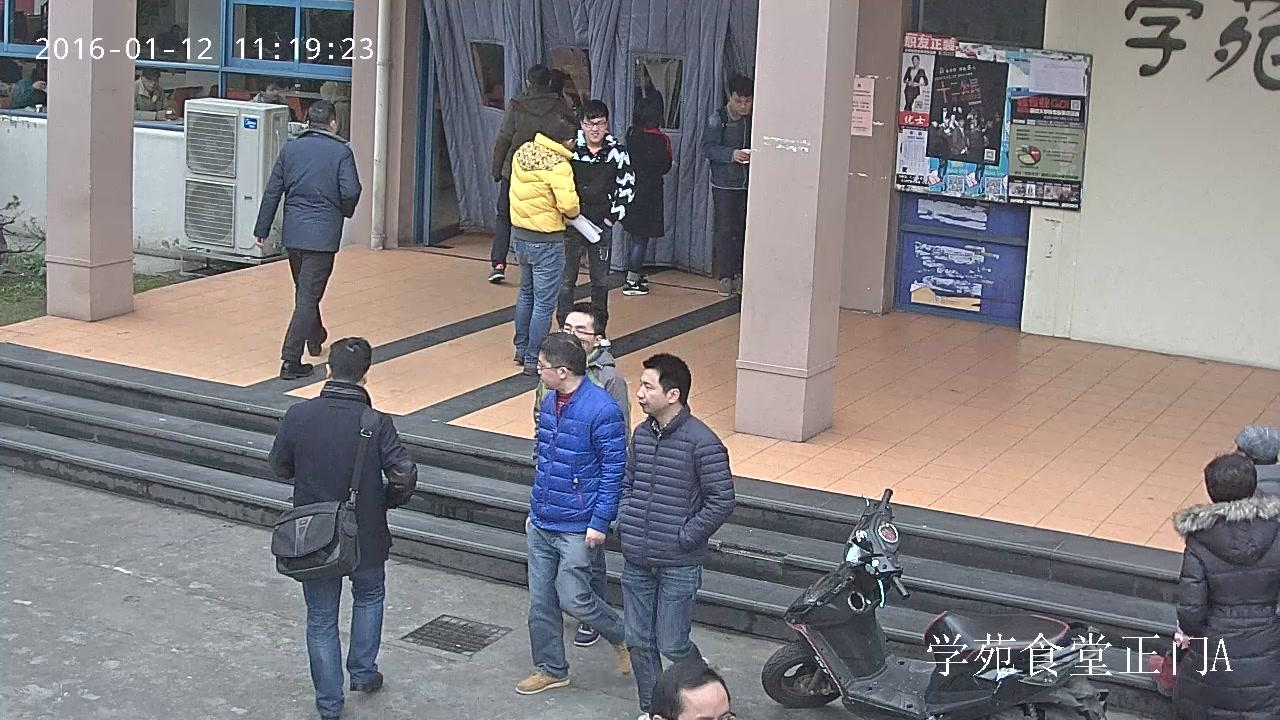person: (265, 336, 417, 719), (513, 333, 633, 694), (617, 354, 735, 720), (252, 100, 362, 380), (1175, 454, 1280, 720), (509, 114, 603, 379), (486, 63, 579, 281), (556, 98, 636, 347), (535, 302, 631, 448), (702, 75, 754, 296), (621, 94, 673, 293), (134, 68, 176, 124), (250, 79, 292, 121), (11, 67, 46, 115), (319, 80, 349, 133), (902, 55, 928, 111)
